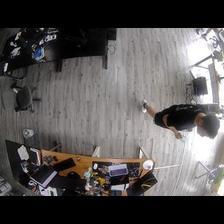normal: (140, 99, 220, 138)
